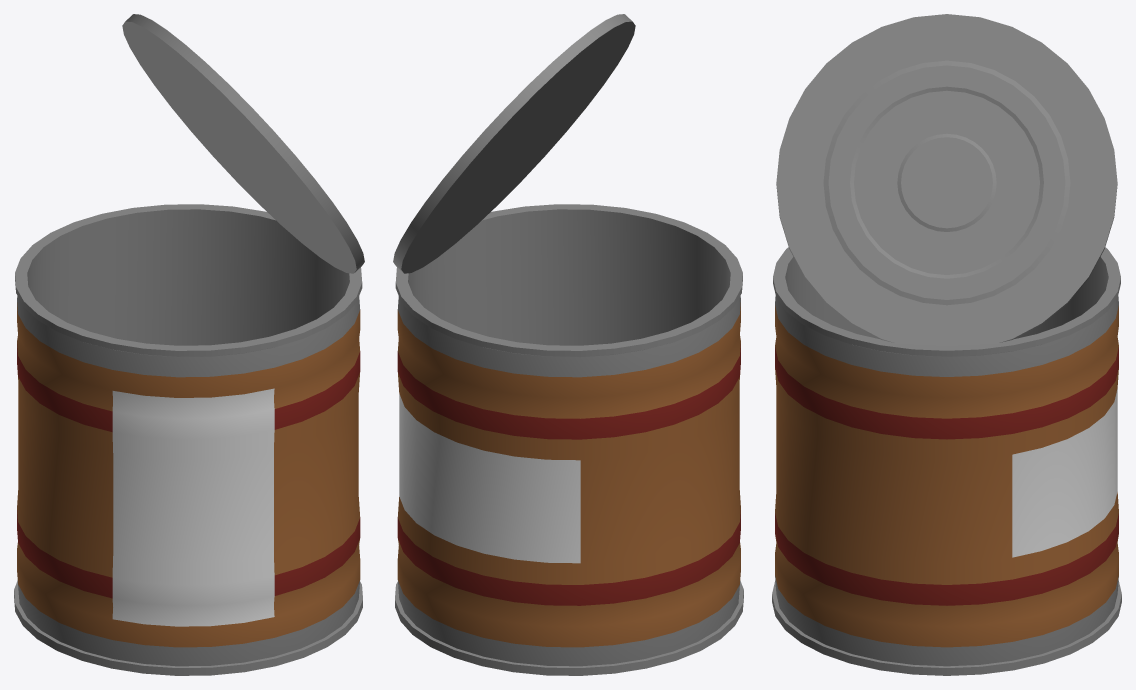
File: emptyTinCan.fbx
The picture shows the model from 3 angles, left to right: view 1: azimuth 30°, elevation 25°; view 2: azimuth 150°, elevation 25°; view 3: azimuth 270°, elevation 25°; orthographic projection.
Visible parts, largest first — view 1: Empty Tin Can; view 2: Empty Tin Can; view 3: Empty Tin Can.
Part boxes in pixels (bbox=[...]): Empty Tin Can: bbox=[14, 14, 364, 675]; Empty Tin Can: bbox=[393, 14, 743, 675]; Empty Tin Can: bbox=[772, 14, 1121, 675].
Size of the model in its own units: 205 by 374 by 205.
